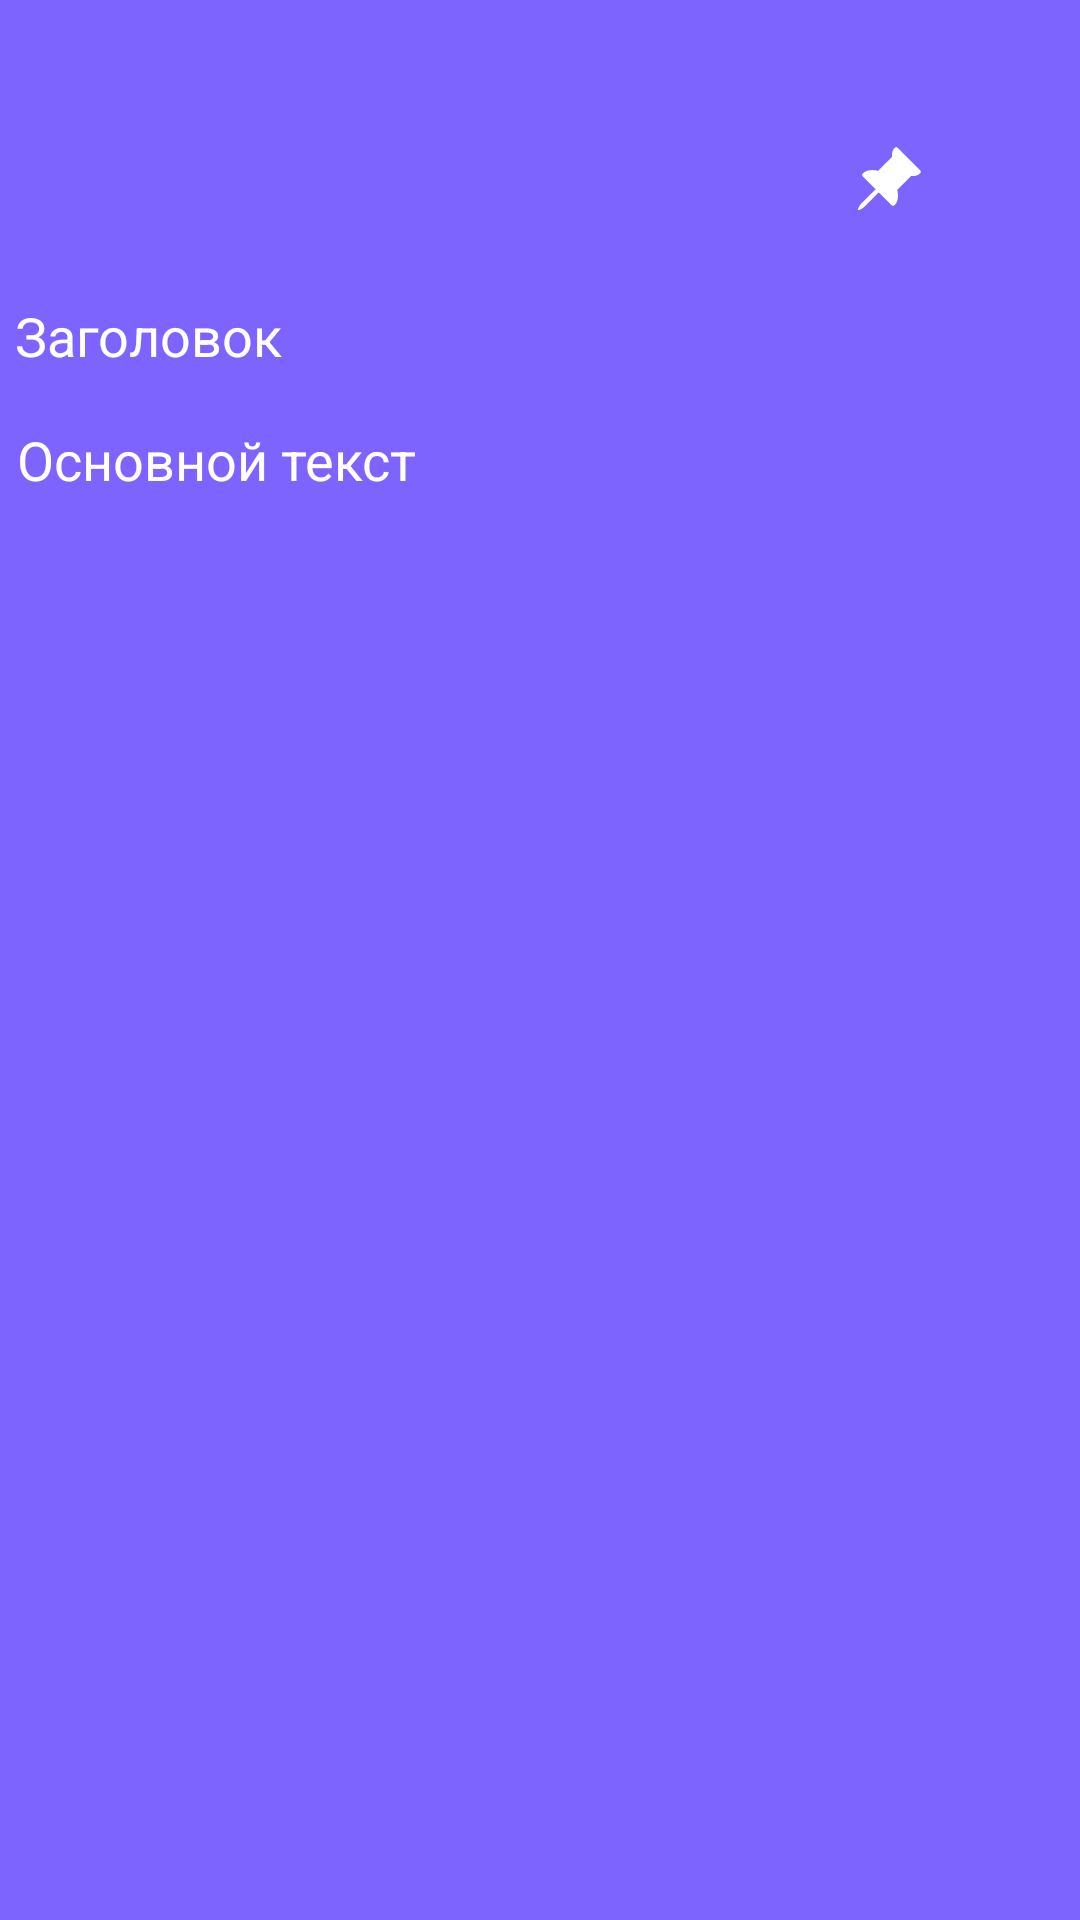

Icons on this 1080px x 1920px Android screen, each with its box as [x1=x1, y1=y1, x2=x2, y2=y2]:
bi pin angle: [x1=858, y1=147, x2=921, y2=210]
